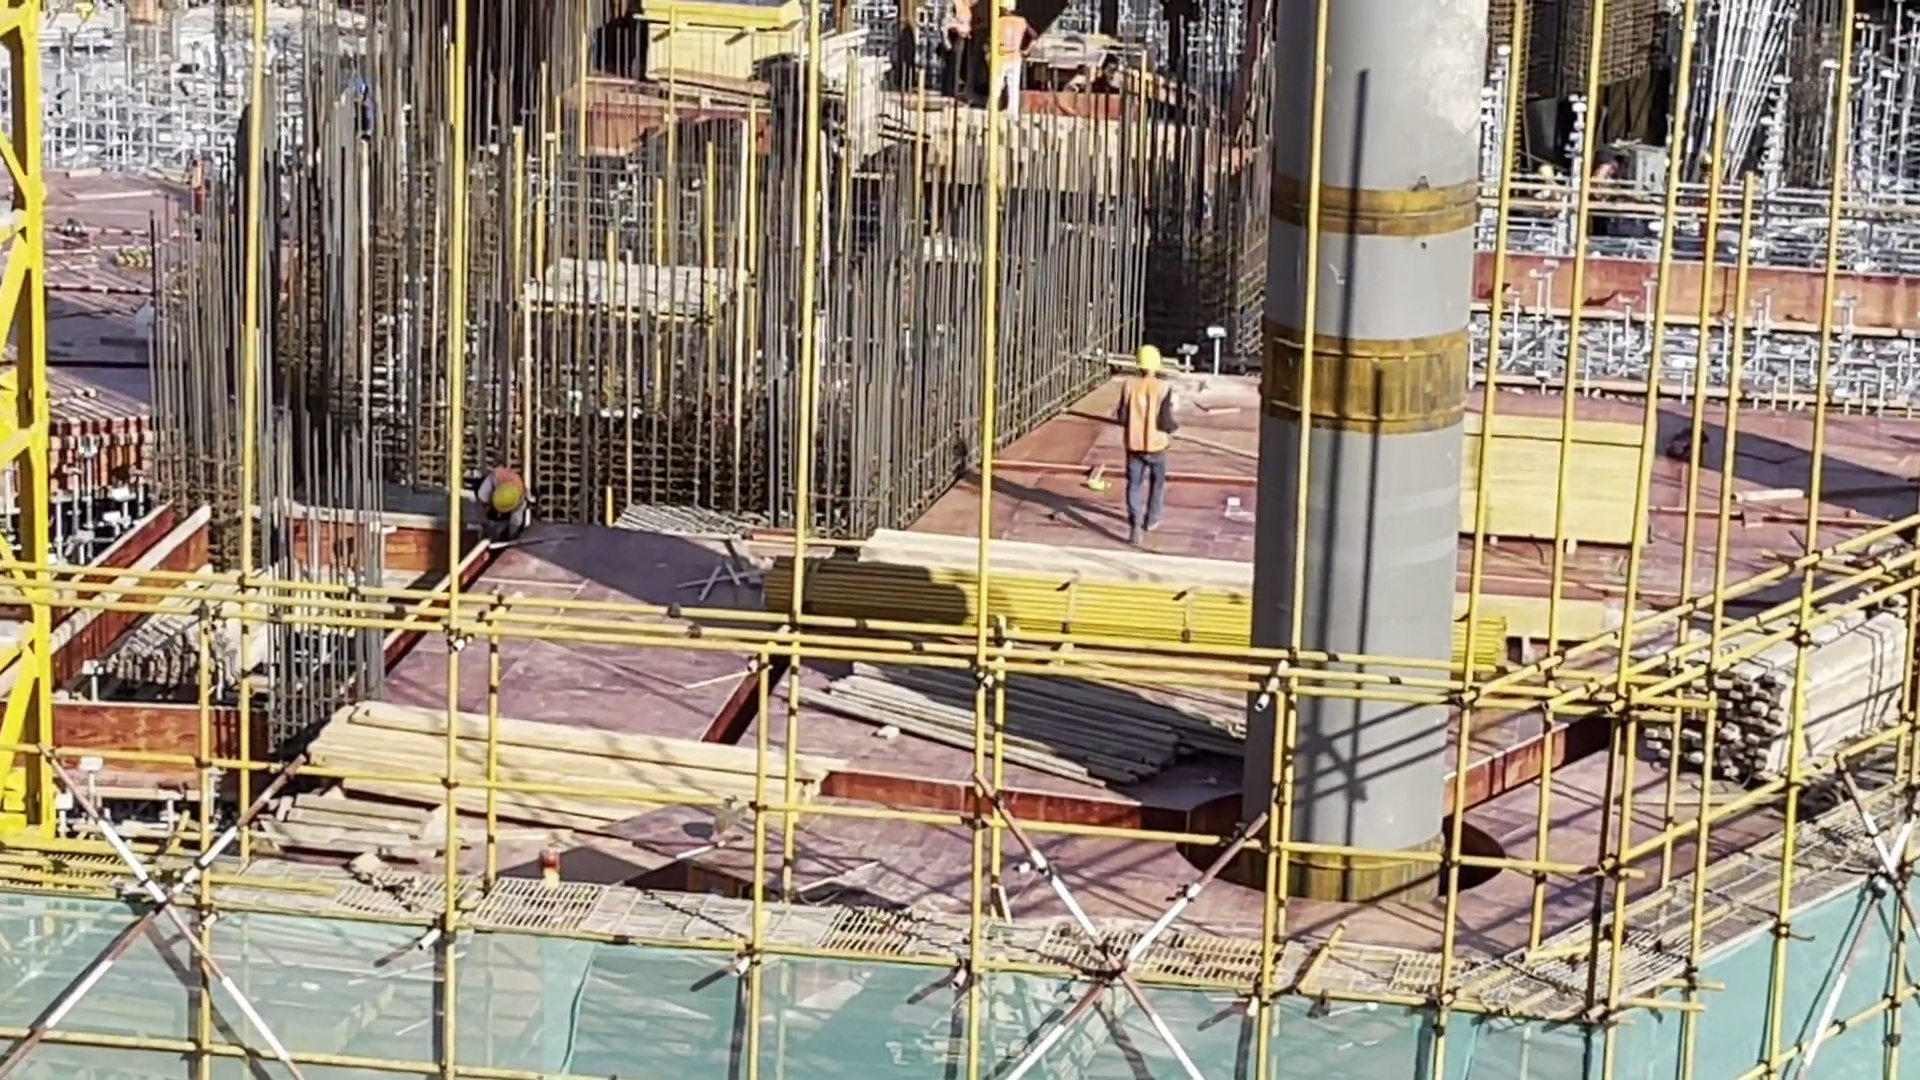board: (1454, 390, 1659, 563)
helmet: (1130, 344, 1173, 381), (490, 480, 522, 522)
person: (1122, 336, 1181, 545), (472, 461, 538, 533), (1597, 137, 1629, 215)
vest: (1124, 376, 1181, 461)
wood: (330, 699, 819, 863), (1640, 602, 1919, 782)
